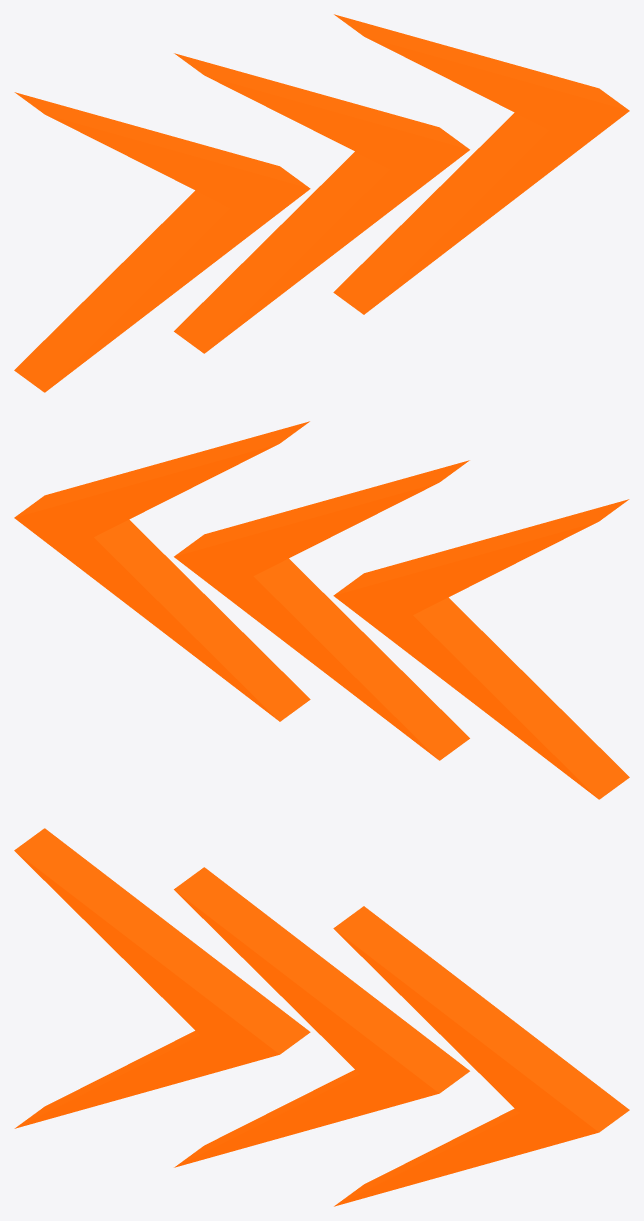
The model's file is speedbonus.glb.
3 renders of one model, top to bottom at view 1: azimuth 30°, elevation 25°; view 2: azimuth 150°, elevation 25°; view 3: azimuth 330°, elevation 25°, orthographic.
Parts seen in each view (by area): view 1: SpeedBoost_Bonus; view 2: SpeedBoost_Bonus; view 3: SpeedBoost_Bonus.
Boxes of the visible parts, x1,y1,x2,y2 form: SpeedBoost_Bonus: [14, 14, 629, 392]; SpeedBoost_Bonus: [14, 421, 629, 799]; SpeedBoost_Bonus: [14, 828, 629, 1206].
Bounding box in the file's own units: 2.2 × 1 × 0.2.
